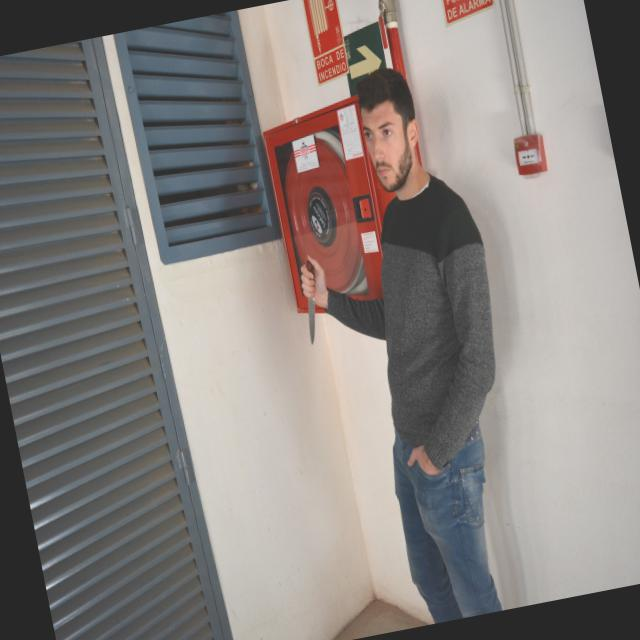knife: (292, 252, 330, 350)
